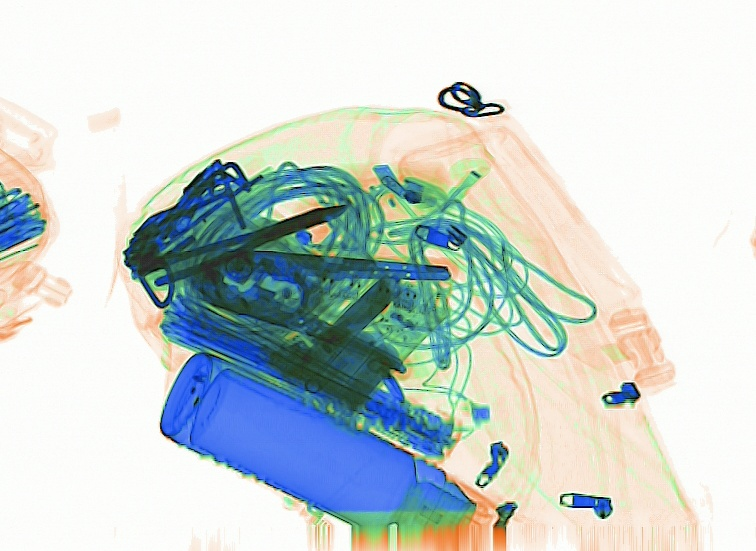powerbank: (258, 262, 445, 421)
